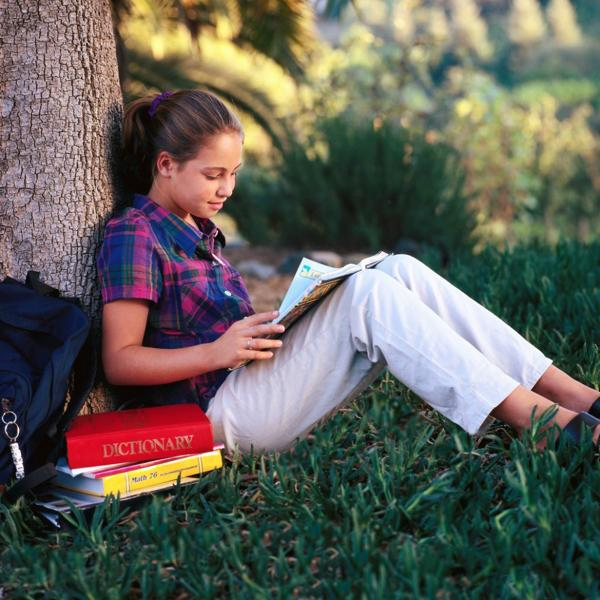person: (100, 89, 599, 473)
